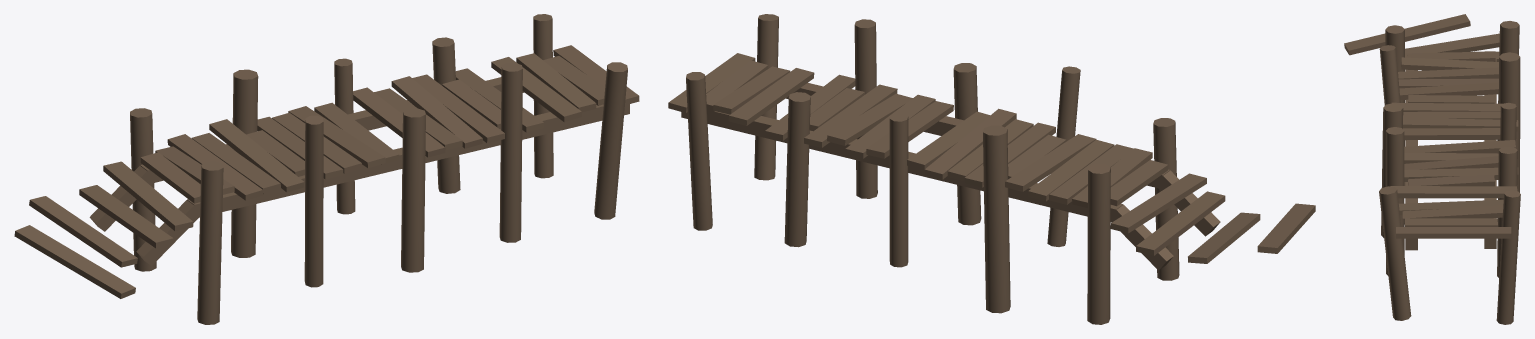
Rendered from pier.fbx.
3 views of the same model, side by side, from view 1: azimuth 30°, elevation 25°; view 2: azimuth 150°, elevation 25°; view 3: azimuth 270°, elevation 25° (orthographic). The views are drawn at different scales.
Visible parts, largest first — view 1: post02, post05, post10, post04, supportBeam01, post08, post09, plank15, plank16, plank01, plank08, post03 (+26 smaller); view 2: post09, post03, post01, post07, post06, supportBeam02, post02, post05, post04, post08, post10, plank22 (+26 smaller); view 3: post04, post07, plank20, plank15, post09, plank14, post02, plank04, plank06, plank01, plank11, plank16 (+22 smaller).
Part boxes in pixels (x1,y1,x2,y2): post02: (499,63,522,242); post05: (401,108,425,272); post10: (197,161,223,324); post04: (594,62,627,219); supportBeam01: (187,104,629,218); post08: (304,115,323,287); post09: (231,69,258,257); plank15: (14,225,135,298); plank16: (29,196,137,267); plank01: (209,119,304,192); plank08: (103,161,193,231); post03: (130,108,156,271); post09: (983,125,1010,313); post03: (1087,163,1110,324); post01: (784,92,810,247); post07: (686,72,712,230); post06: (889,113,908,267); supportBeam02: (681,110,1123,222); post02: (854,19,877,198); post05: (953,63,981,225); post04: (754,14,778,180); post08: (1047,66,1080,246); post10: (1153,118,1179,280); plank22: (1136,191,1225,255); post04: (1379,186,1411,320); post07: (1496,190,1520,324); plank20: (1390,186,1517,198); plank15: (1344,14,1470,55); post09: (1498,52,1520,192); plank14: (1396,227,1511,238); post02: (1385,127,1404,275); plank04: (1403,128,1500,140); plank06: (1402,205,1503,223); plank01: (1399,82,1498,99); plank11: (1404,140,1515,153); plank16: (1405,33,1499,52).
Bounding box in the file's own units: 10.74 × 3.29 × 3.35.
